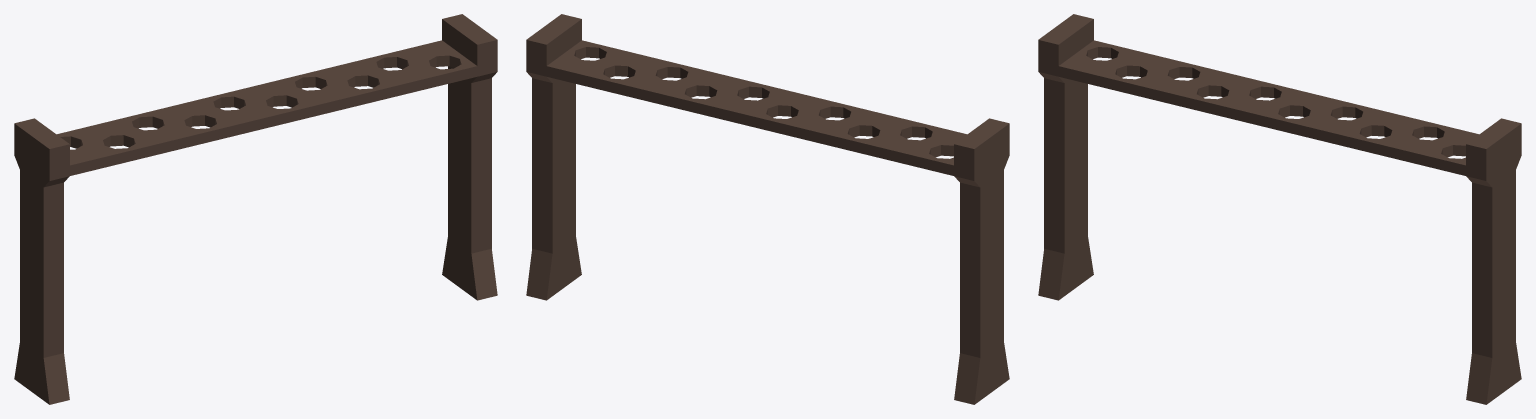
File: fantasy_weapon_rack.fbx
3 views of the same model, side by side, from view 1: azimuth 30°, elevation 25°; view 2: azimuth 150°, elevation 25°; view 3: azimuth 330°, elevation 25° (orthographic).
Parts seen in each view (by area): view 1: Cube.244; view 2: Cube.244; view 3: Cube.244.
Part boxes in pixels (left/top/right/bottom): Cube.244: left=14, top=14, right=497, bottom=404; Cube.244: left=526, top=14, right=1009, bottom=404; Cube.244: left=1038, top=14, right=1521, bottom=404.
Size of the model in its own units: 220 by 120 by 30.
